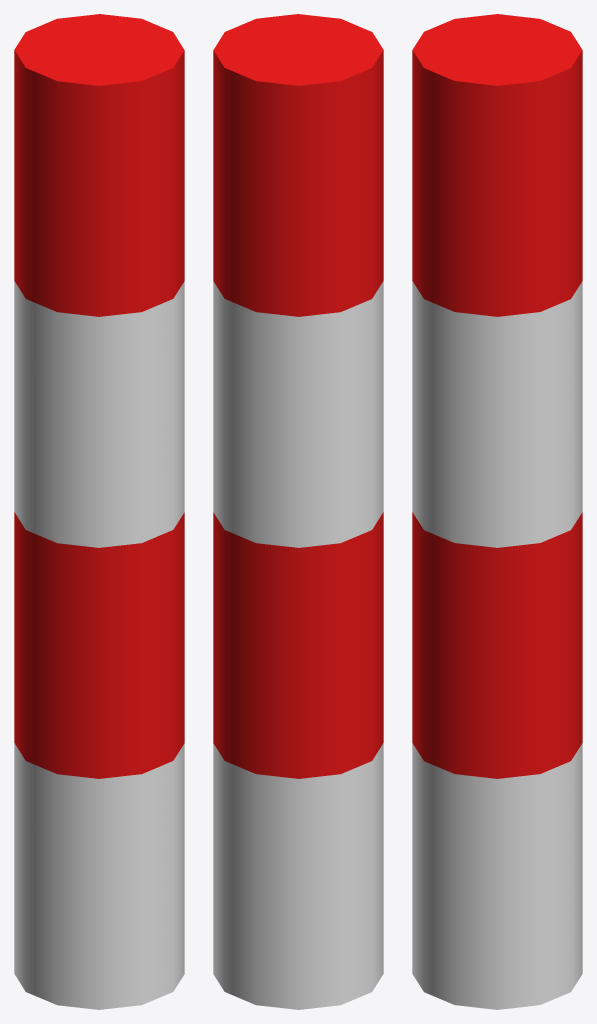
The model's file is candy cane 2.FBX.
The picture shows the model from 3 angles, left to right: view 1: azimuth 30°, elevation 25°; view 2: azimuth 150°, elevation 25°; view 3: azimuth 270°, elevation 25°; orthographic projection.
Visible parts, largest first — view 1: Candy Cane; view 2: Candy Cane; view 3: Candy Cane.
Part boxes in pixels (bbox=[...]): Candy Cane: bbox=[14, 14, 184, 1009]; Candy Cane: bbox=[213, 14, 383, 1009]; Candy Cane: bbox=[412, 14, 582, 1009].
Bounding box in the file's own units: 5.67 × 34 × 5.67.
